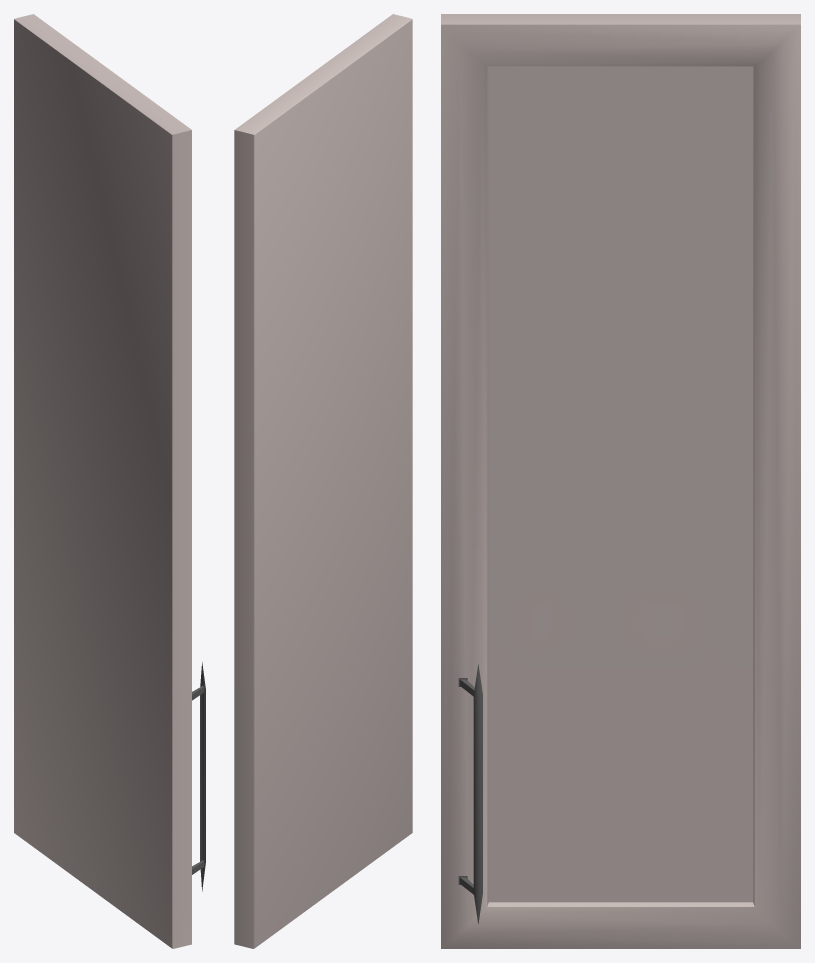
The model's file is kitchencupboard_doorWhole_R.glb.
3 views of the same model, side by side, from view 1: azimuth 30°, elevation 25°; view 2: azimuth 150°, elevation 25°; view 3: azimuth 270°, elevation 25° (orthographic). The views are drawn at different scales.
Parts seen in each view (by area): view 1: RC_Furn_CabinetTopShelfDoor6; view 2: RC_Furn_CabinetTopShelfDoor6; view 3: RC_Furn_CabinetTopShelfDoor6.
Boxes of the visible parts, x1,y1,x2,y2 form: RC_Furn_CabinetTopShelfDoor6: [14, 14, 205, 948]; RC_Furn_CabinetTopShelfDoor6: [234, 14, 412, 948]; RC_Furn_CabinetTopShelfDoor6: [441, 14, 800, 948].
Size of the model in its own units: 0.1538 by 2.38 by 0.8405.
Materials: 1 (1 with a texture image).
